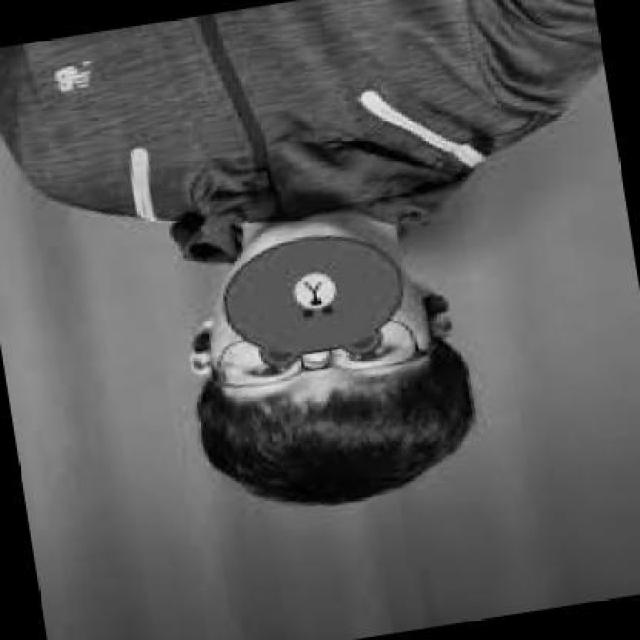earphone: (189, 317, 219, 367), (426, 283, 457, 331)
